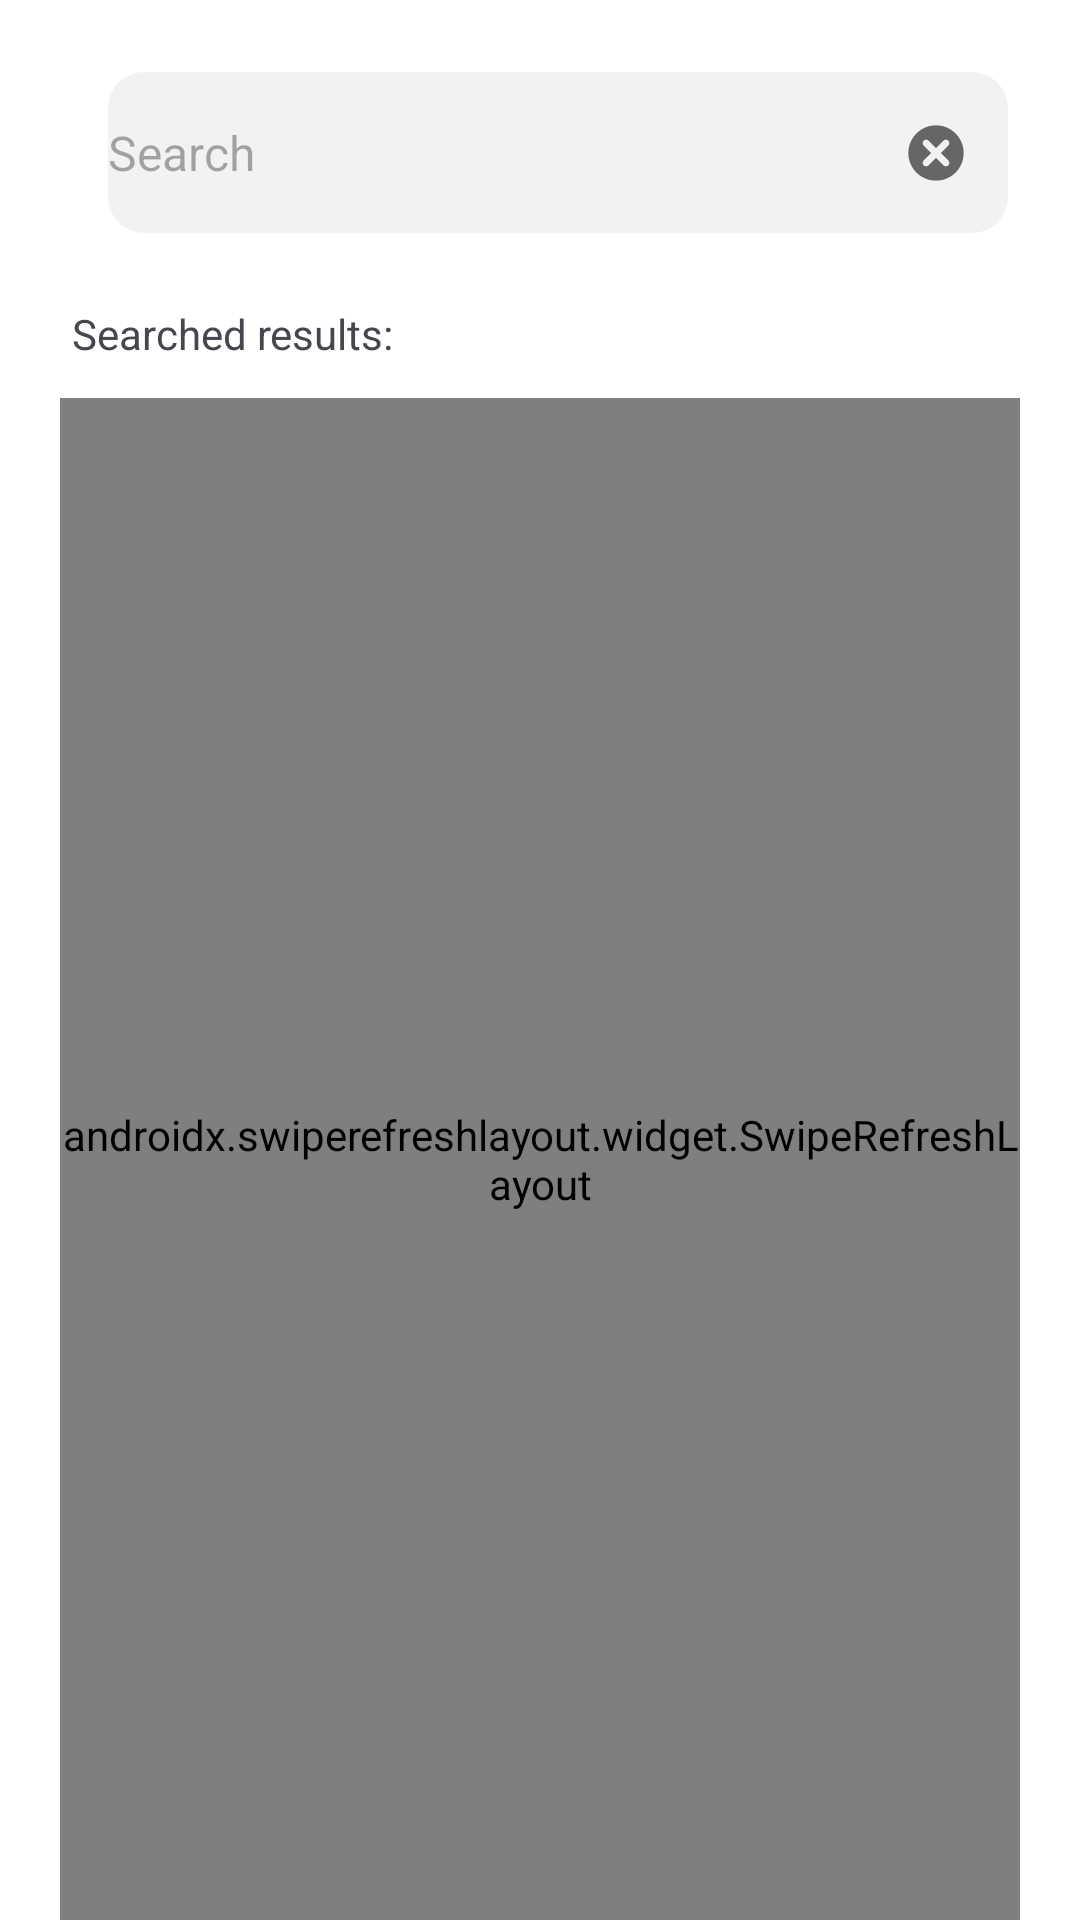

Screen size 1080×1920. Icon name, then its box in pixels as (x1, y1, x2, y2):
clear: (908, 125, 964, 181)
